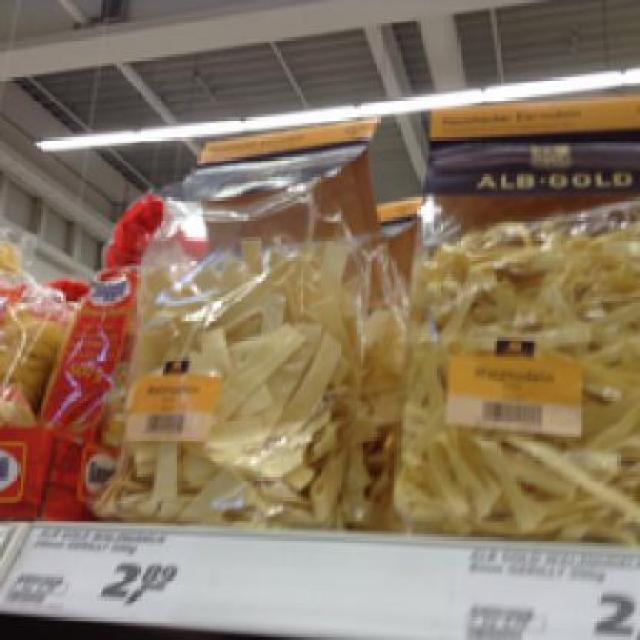Pasta: (83, 128, 386, 526), (397, 97, 634, 543)
